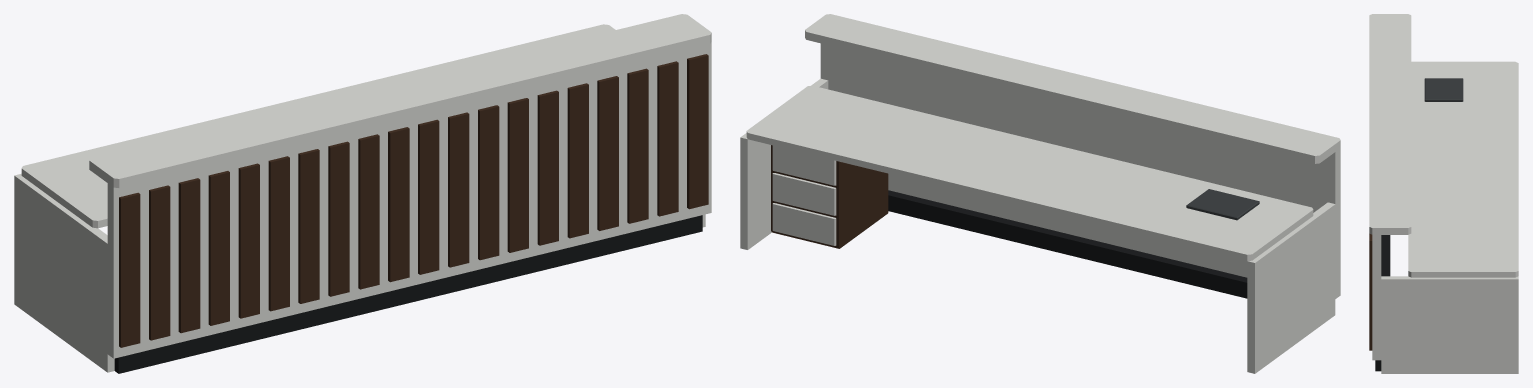
Rendered from reception_desk.glb.
3 renders of one model, left to right at view 1: azimuth 30°, elevation 25°; view 2: azimuth 150°, elevation 25°; view 3: azimuth 270°, elevation 25°, orthographic. The views are drawn at different scales.
Visible parts, largest first — view 1: Frente, Repisa, Lateral, Zócalo, Mesa trabajo, Listón.002, Listón.007, Listón.011, Listón.017, Listón.018, Listón, Listón.001 (+13 smaller); view 2: Mesa trabajo, Frente, Repisa, Lateral, Zócalo, Cajonera, Lateral.001, Cajón.001, Cajón, Cajón.002, Bandeja; view 3: Mesa trabajo, Lateral.001, Repisa, Frente, Bandeja, Zócalo, Listón.019.
Boxes of the visible parts, <box> form: Frente: <box>107,42,711,358</box>; Repisa: <box>89,14,711,188</box>; Lateral: <box>14,173,114,372</box>; Zócalo: <box>114,215,702,373</box>; Mesa trabajo: <box>21,24,615,228</box>; Listón.002: <box>178,178,200,333</box>; Listón.007: <box>328,141,349,296</box>; Listón.011: <box>448,112,469,267</box>; Listón.017: <box>627,68,648,223</box>; Listón.018: <box>657,61,678,216</box>; Listón: <box>119,192,140,347</box>; Listón.001: <box>149,185,170,340</box>; Mesa trabajo: <box>746,85,1313,261</box>; Frente: <box>820,43,1340,298</box>; Repisa: <box>805,14,1340,163</box>; Lateral: <box>1247,202,1335,373</box>; Zócalo: <box>888,190,1247,298</box>; Cajonera: <box>771,145,888,248</box>; Lateral.001: <box>740,78,828,249</box>; Cajón.001: <box>772,173,836,215</box>; Cajón: <box>772,203,836,245</box>; Cajón.002: <box>772,145,836,185</box>; Bandeja: <box>1186,189,1259,220</box>; Mesa trabajo: <box>1408,61,1518,277</box>; Lateral.001: <box>1381,276,1518,373</box>; Repisa: <box>1369,14,1411,234</box>; Frente: <box>1372,235,1381,360</box>; Bandeja: <box>1424,78,1463,101</box>; Zócalo: <box>1375,235,1390,371</box>; Listón.019: <box>1369,234,1372,350</box>.
Bounding box in the file's own units: 3.4 × 1.08 × 1.
